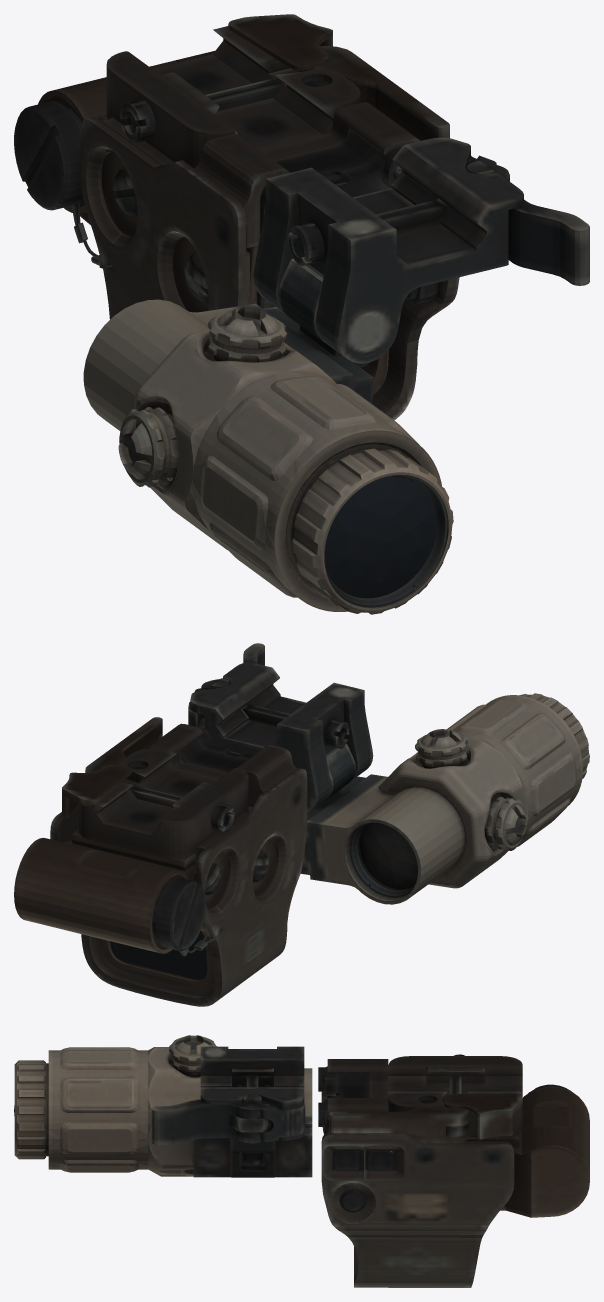
3 views of the same model, one above another, from view 1: azimuth 30°, elevation 25°; view 2: azimuth 150°, elevation 25°; view 3: azimuth 270°, elevation 25° (orthographic). The views are drawn at different scales.
Visible parts, largest first — view 1: TW_5c0a2cec0db834001b7ce47d_mode1_PZ_Import; view 2: TW_5c0a2cec0db834001b7ce47d_mode1_PZ_Import; view 3: TW_5c0a2cec0db834001b7ce47d_mode1_PZ_Import.
Part boxes in pixels (x1=…): TW_5c0a2cec0db834001b7ce47d_mode1_PZ_Import: x1=14, y1=14, x2=589, y2=614; TW_5c0a2cec0db834001b7ce47d_mode1_PZ_Import: x1=14, y1=643, x2=589, y2=1006; TW_5c0a2cec0db834001b7ce47d_mode1_PZ_Import: x1=14, y1=1035, x2=589, y2=1287.
Size of the model in its own units: 0.06 by 0.111 by 0.0415.
1 material, 1 textured.
